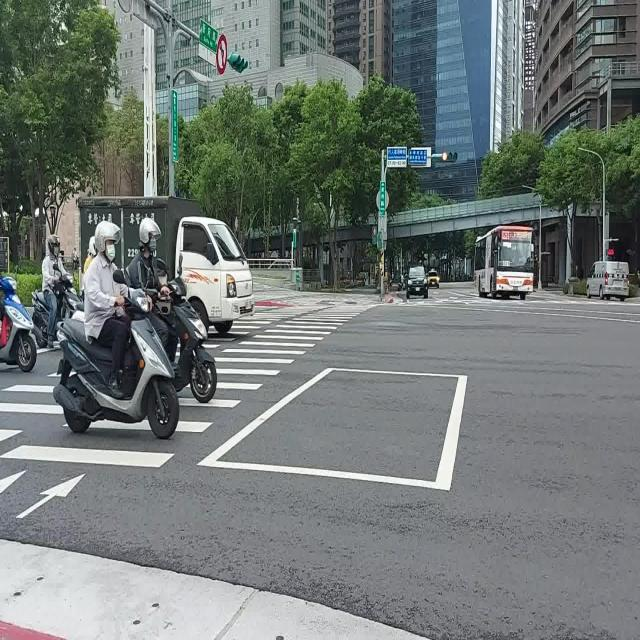bus: (475, 227, 534, 300)
car: (586, 260, 629, 300), (406, 264, 428, 298), (426, 269, 440, 288)
crosswalk: (0, 303, 373, 467), (205, 305, 329, 349), (0, 368, 63, 442)
motocycle: (54, 289, 179, 438), (168, 276, 218, 403), (0, 276, 36, 371), (58, 276, 84, 319), (31, 289, 49, 349)
trunk: (80, 198, 255, 336)
